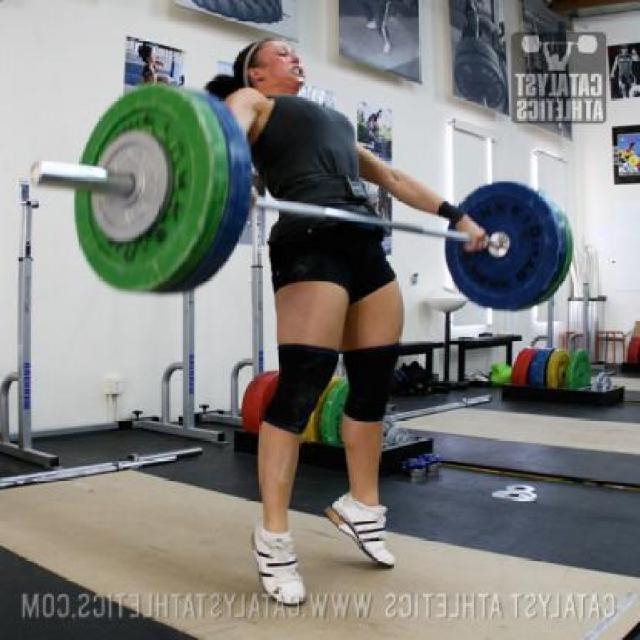Barbell: (28, 156, 48, 187)
